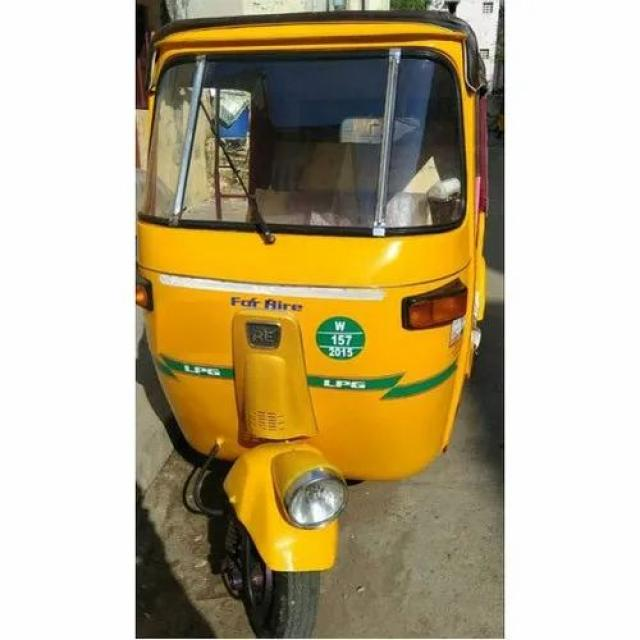autorickshaw: (136, 12, 485, 638)
